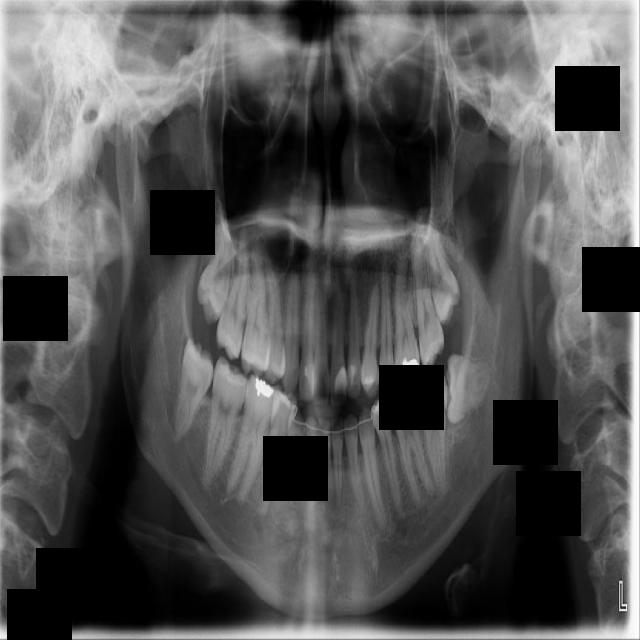3M ESPE Implant: (193, 225, 238, 326)
52: (233, 371, 289, 432), (392, 335, 422, 385)
73: (614, 588, 617, 592)
BioHorizons Implant: (408, 229, 447, 372)
BioLife Implant: (421, 215, 465, 327)
Biomet 3i Implant: (437, 351, 493, 428)
Blue Sky Bio Implant: (415, 370, 449, 493)
Caries: (213, 238, 255, 362)
Implant: (201, 355, 251, 486)
Keystone Dental Implant: (172, 336, 218, 440)
